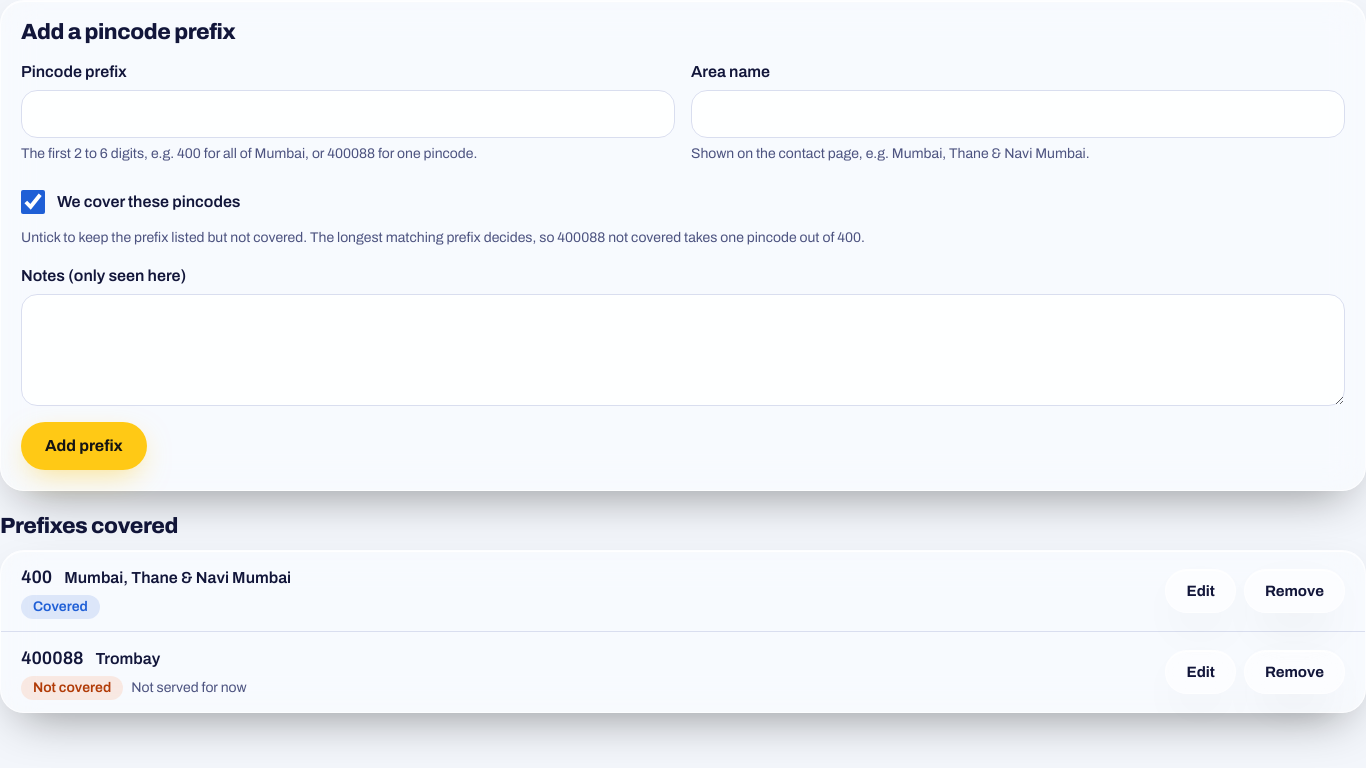
Scenario: AreasEditor › Remove asks first, on the page; "Keep it" sends nothing, "Yes, remove" sends one DELETE
Click the button with aria-label "Remove 400088". click: (1294, 672)
box: top-left (1244, 650), bottom-right (1345, 694)
(page scrolled)
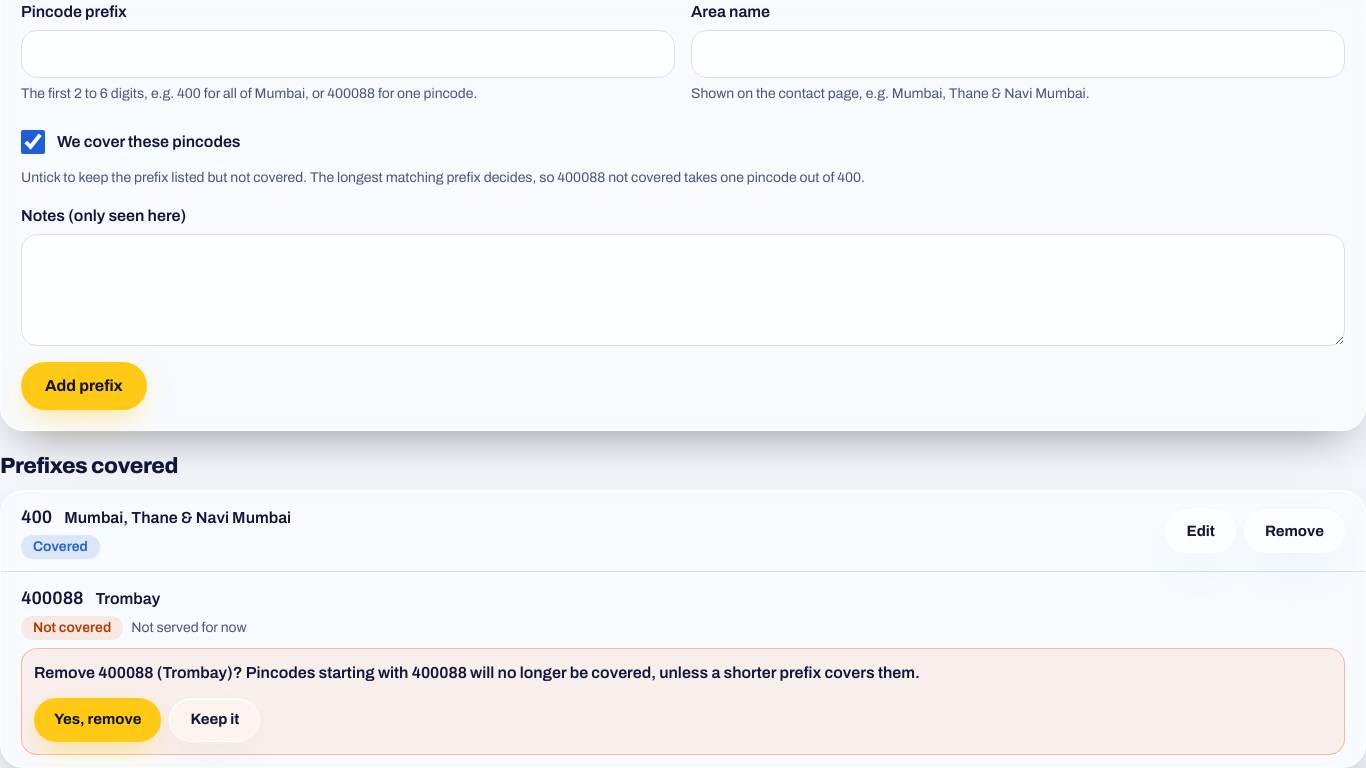
Click the button "Keep it". click: (215, 720)
box: top-left (169, 698), bottom-right (260, 742)
(page scrolled)
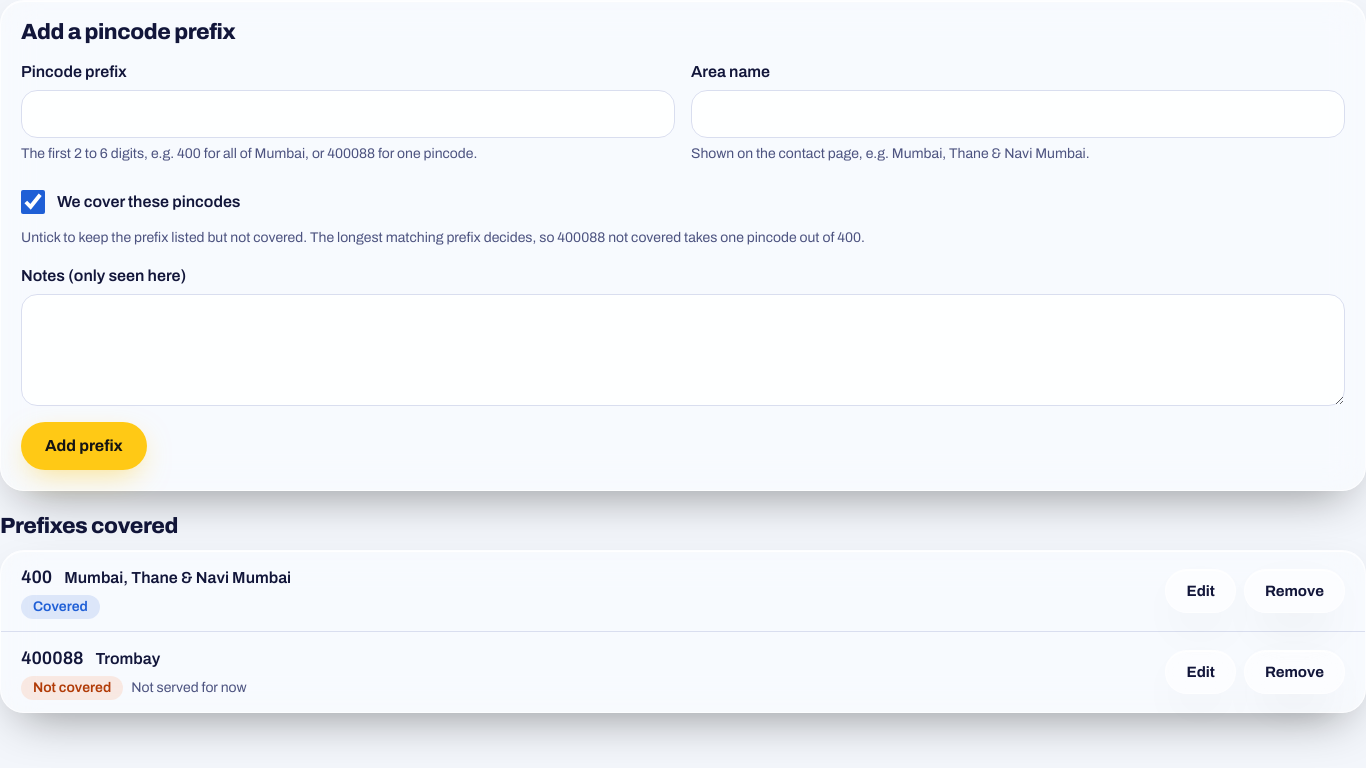
Click the button with aria-label "Remove 400088". click: (1294, 672)
box: top-left (1244, 650), bottom-right (1345, 694)
(page scrolled)
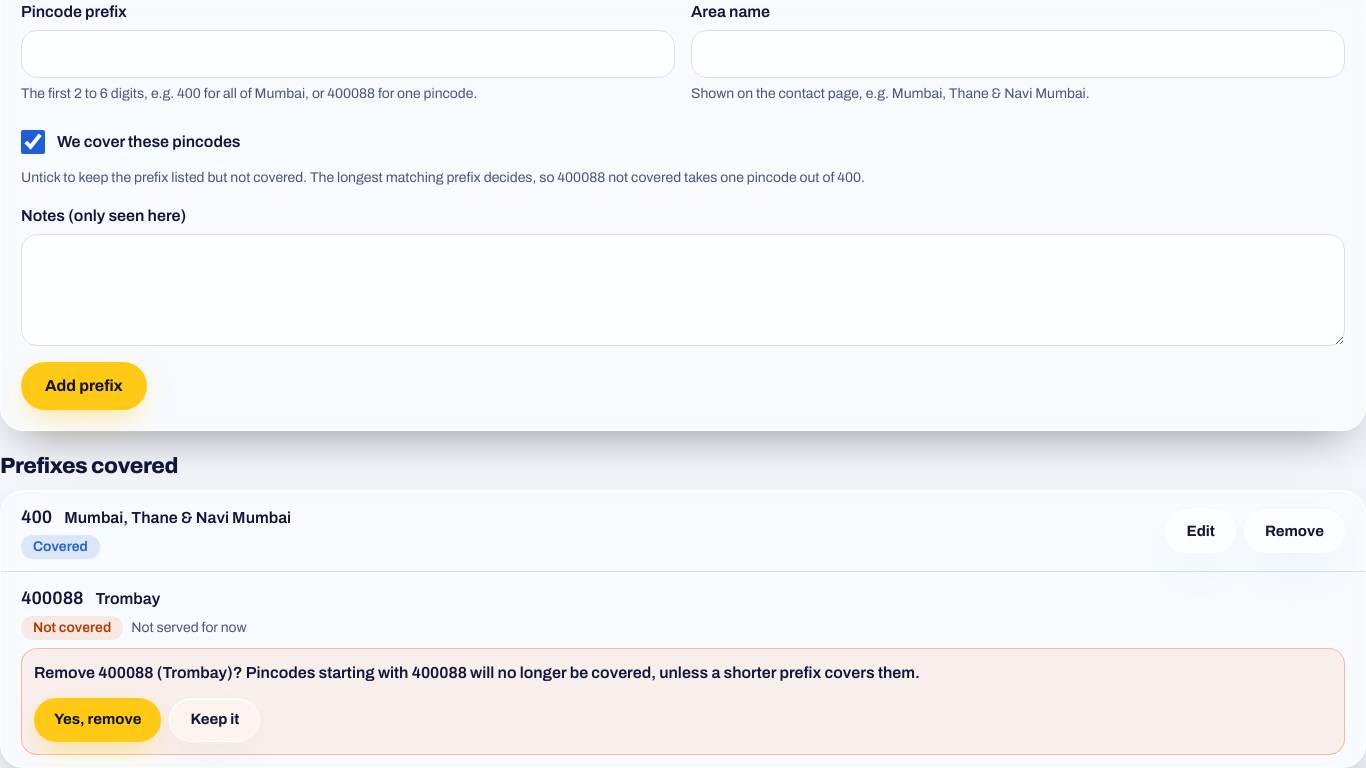
Now the text "Remove 400088 (Trombay)?" is shown, box top-left (34, 664), bottom-right (920, 681)
Click the button with aria-label "Yes, remove 400088". click: (98, 720)
box: top-left (34, 698), bottom-right (161, 742)
(page scrolled)
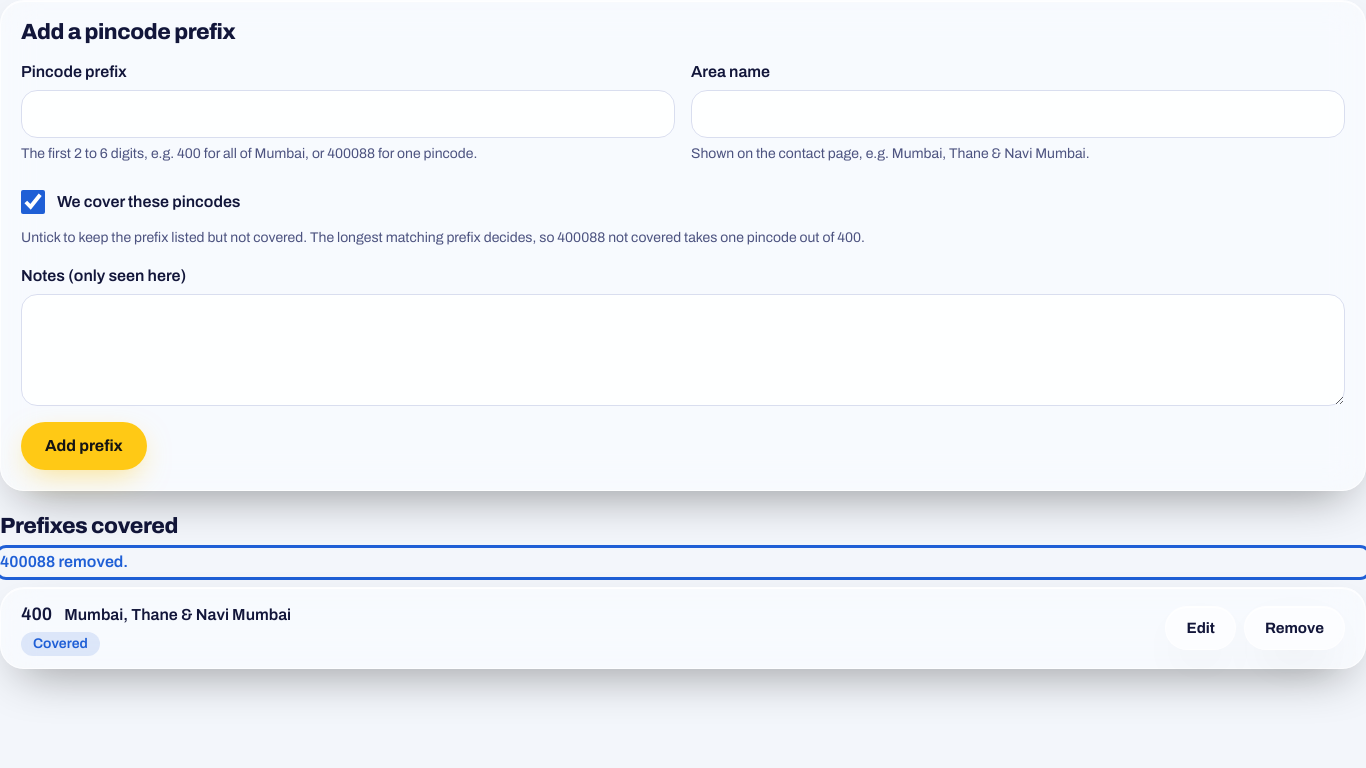
Now the text "400088 removed." is shown, box top-left (0, 553), bottom-right (128, 570)
